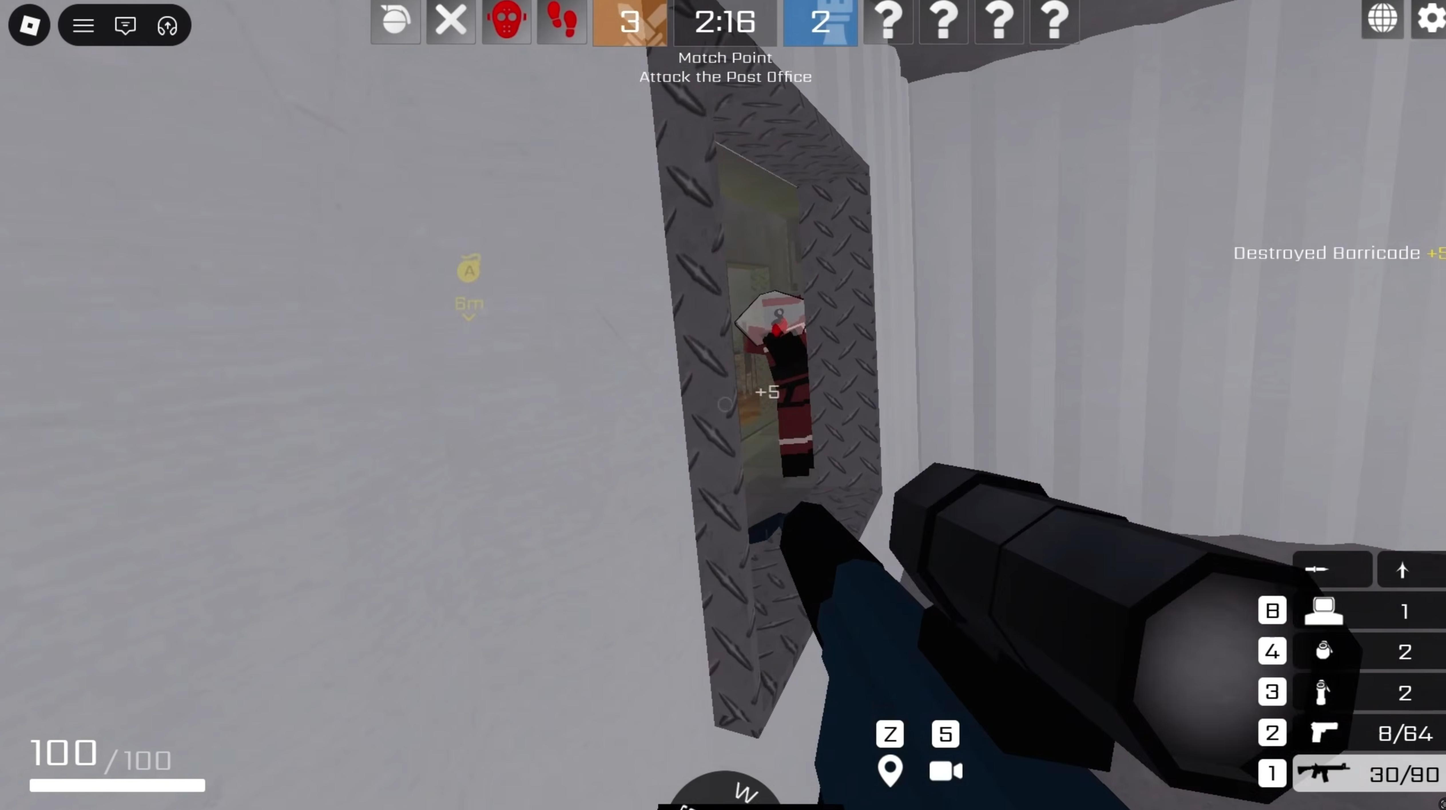enemy: (728, 270, 829, 488)
